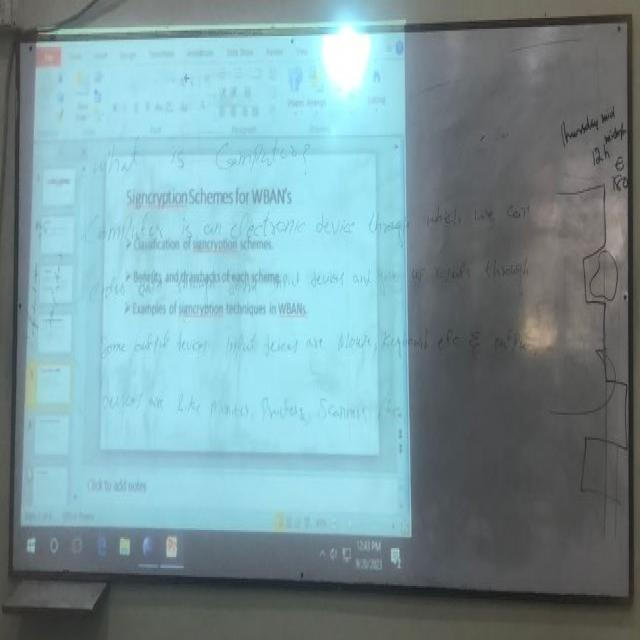Slide: (20, 23, 414, 574)
White-board: (13, 11, 632, 591)
